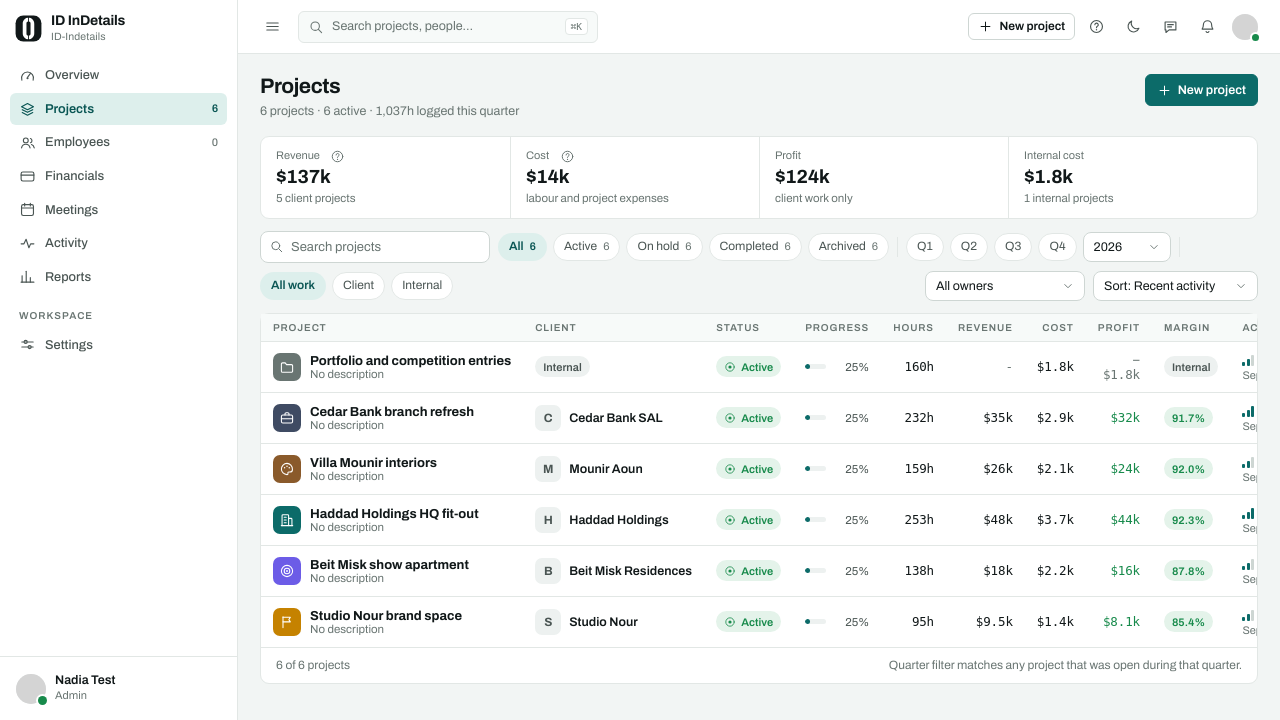
the projects list › makes a new project internal for someone who can't see the clients, and says why
The image size is (1280, 720).
What coordinates should you click on to do the following:
click the 1st button "New project"
I would click on:
 (1022, 26)
Its box is [968,13,1075,40].
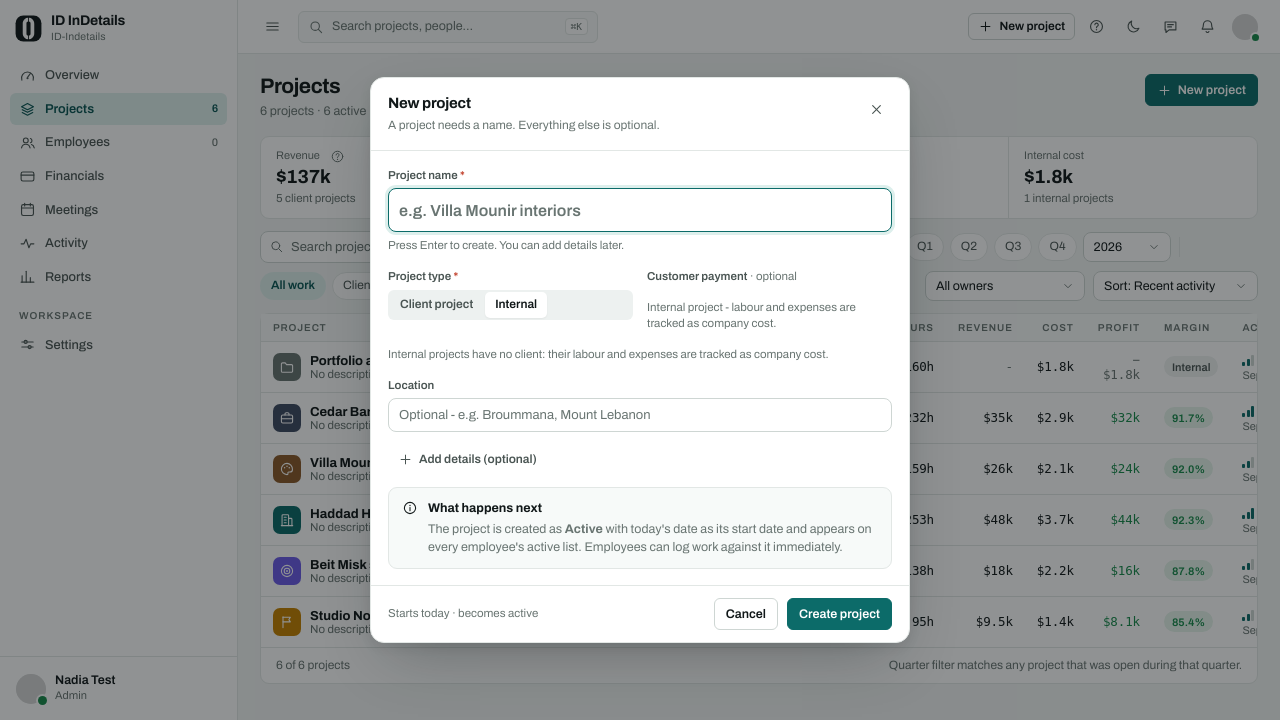
Check: the button "Client project" is disabled, box [390,292,483,318]
